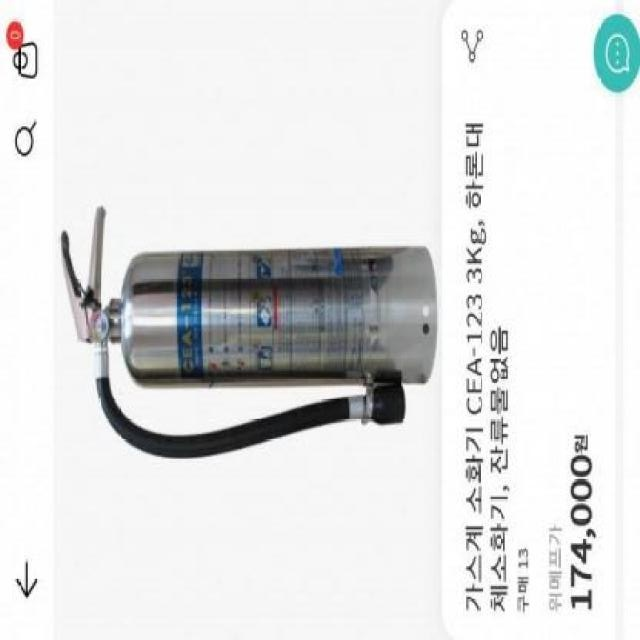fire extinguisher: (57, 205, 438, 461)
